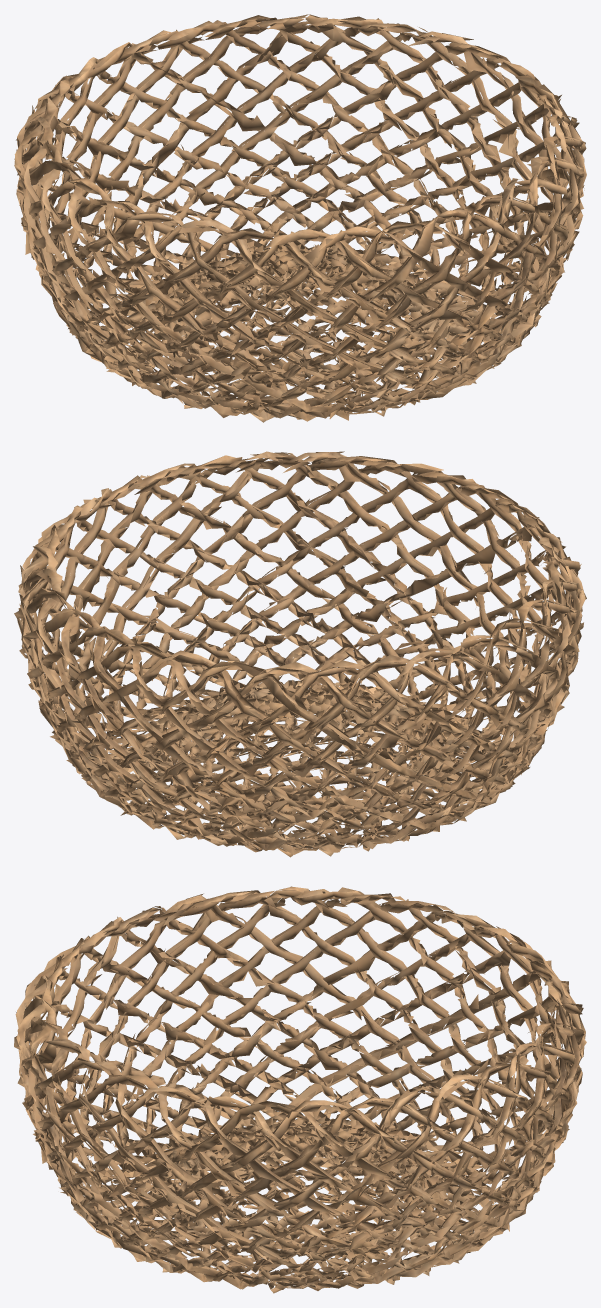
File: basket.glb
The picture shows the model from 3 angles, top to bottom: view 1: azimuth 30°, elevation 25°; view 2: azimuth 150°, elevation 25°; view 3: azimuth 270°, elevation 25°; orthographic projection.
Parts seen in each view (by area): view 1: basket; view 2: basket; view 3: basket.
Part boxes in pixels (x1,y1,x2,y2): basket: [14, 14, 586, 422]; basket: [14, 451, 586, 857]; basket: [14, 886, 586, 1293].
Size of the model in its own units: 0.9959 by 0.4105 by 0.9972.
1 material, 1 textured.
